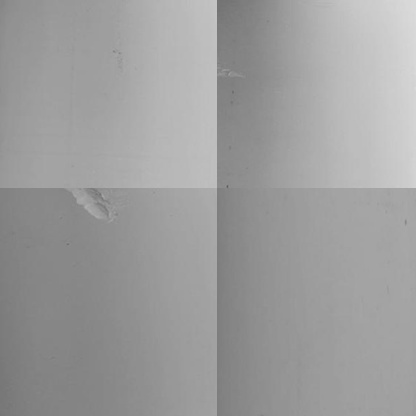sunshang: (67, 185, 118, 223), (216, 62, 243, 83)
